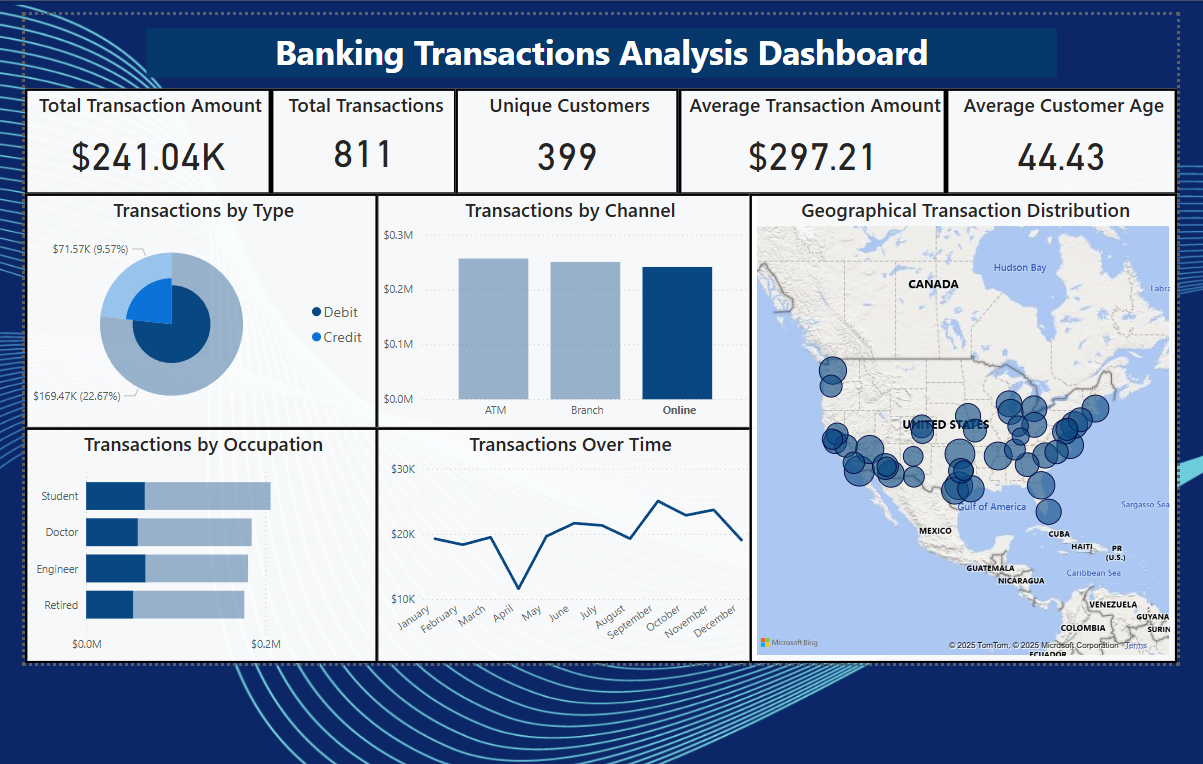

The dashboard page shown, as its layout file describes it:
{"tool":"powerbi","page":{"name":"Dashboard","canvas":[1280,720],"ordinal":0},"visuals":[{"type":"card","title":"Total Transaction Amount","fields":{"Values":["cleaned_bank_transactions_data.TotalTransactionAmount"]},"box":[0,81,273.3,118.1],"z":0},{"type":"card","title":"Average Transaction Amount","fields":{"Values":["cleaned_bank_transactions_data.AvgTransactionAmount"]},"box":[727.2,81,296.9,118.1],"z":1000},{"type":"card","title":"Total Transactions","fields":{"Values":["cleaned_bank_transactions_data.TotalTransactions"]},"box":[273.3,81,205.8,118.1],"z":2000},{"type":"card","title":"Unique Customers","fields":{"Values":["cleaned_bank_transactions_data.UniqueCustomers"]},"box":[479.2,81,248,118.1],"z":3000},{"type":"clusteredColumnChart","title":"Transactions by Channel","fields":{"Category":["cleaned_bank_transactions_data.Channel"],"Y":["cleaned_bank_transactions_data.TotalTransactionAmount"]},"box":[390,198.3,426.7,261.7],"z":4000},{"type":"pieChart","title":"Transactions by Type","fields":{"Category":["cleaned_bank_transactions_data.TransactionType"],"Y":["cleaned_bank_transactions_data.TotalTransactionAmount"]},"box":[0,198.3,391.7,261.7],"z":5000},{"type":"lineChart","title":"Transactions Over Time","fields":{"Y":["cleaned_bank_transactions_data.TotalTransactionAmount"],"Category":["cleaned_bank_transactions_data.TransactionDate.Variation.Date Hierarchy.Year","cleaned_bank_transactions_data.TransactionDate.Variation.Date Hierarchy.Quarter","cleaned_bank_transactions_data.TransactionDate.Variation.Date Hierarchy.Month"]},"box":[390,458.3,426.7,261.7],"z":6000},{"type":"clusteredBarChart","title":"Transactions by Occupation","fields":{"Y":["cleaned_bank_transactions_data.TotalTransactionAmount"],"Category":["cleaned_bank_transactions_data.CustomerOccupation"]},"box":[0,458.3,391.7,261.7],"z":7000},{"type":"card","title":"Average Customer Age","fields":{"Values":["cleaned_bank_transactions_data.AverageCustomerAge"]},"box":[1024.1,81,256.5,118.1],"z":8000},{"type":"map","title":"Geographical Transaction Distribution","fields":{"Category":["cleaned_bank_transactions_data.Location"],"Size":["cleaned_bank_transactions_data.TotalTransactionAmount"]},"box":[805,198.3,475,521.7],"z":9000},{"type":"textbox","box":[134.6,15.8,1011.3,54.4],"z":10000}]}

Visuals, with their boxes on the page's 1280x720 design canvas (x1, y1, x2, y2). These are canvas units, not pixel positions in the 1203x764 screenshot, which may show the page scaled, cropped or inside an application window:
"Total Transaction Amount" card: {"left": 0, "top": 81, "right": 273, "bottom": 199}
"Average Transaction Amount" card: {"left": 727, "top": 81, "right": 1024, "bottom": 199}
"Total Transactions" card: {"left": 273, "top": 81, "right": 479, "bottom": 199}
"Unique Customers" card: {"left": 479, "top": 81, "right": 727, "bottom": 199}
"Transactions by Channel" clusteredColumnChart: {"left": 390, "top": 198, "right": 817, "bottom": 460}
"Transactions by Type" pieChart: {"left": 0, "top": 198, "right": 392, "bottom": 460}
"Transactions Over Time" lineChart: {"left": 390, "top": 458, "right": 817, "bottom": 720}
"Transactions by Occupation" clusteredBarChart: {"left": 0, "top": 458, "right": 392, "bottom": 720}
"Average Customer Age" card: {"left": 1024, "top": 81, "right": 1281, "bottom": 199}
"Geographical Transaction Distribution" map: {"left": 805, "top": 198, "right": 1280, "bottom": 720}
textbox: {"left": 135, "top": 16, "right": 1146, "bottom": 70}
